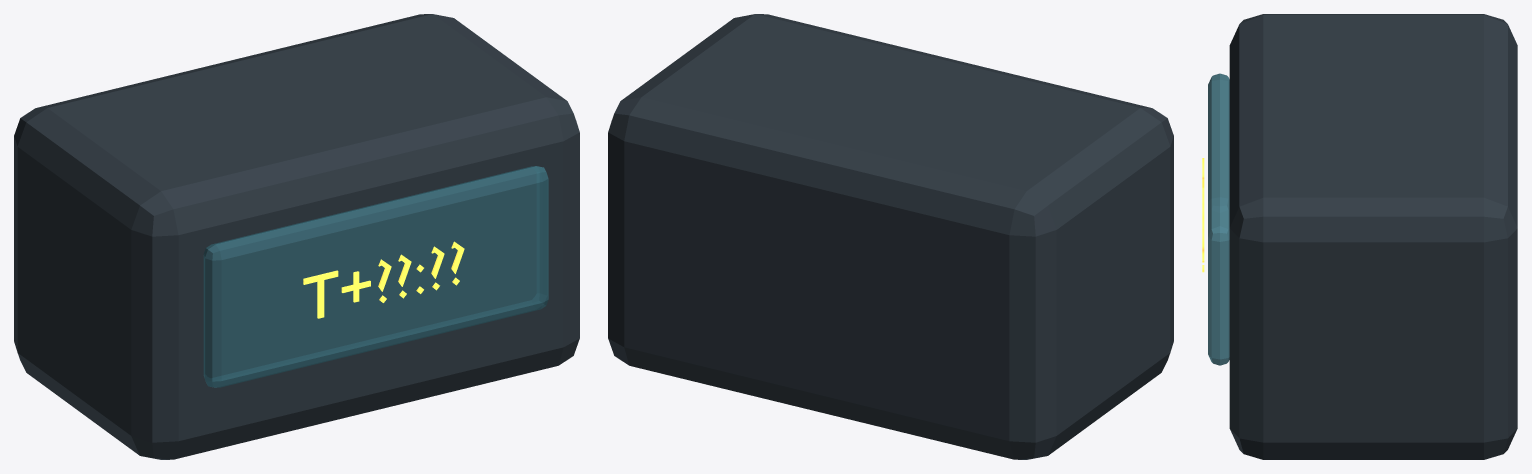
Rendered from Find_FutureTimestamp.glb.
3 views of the same model, side by side, from view 1: azimuth 30°, elevation 25°; view 2: azimuth 150°, elevation 25°; view 3: azimuth 270°, elevation 25° (orthographic). The views are drawn at different scales.
Parts seen in each view (by area): view 1: Find_FutureTimestamp, Find_FutureTimestamp_Display, Find_FutureTimestamp_Text; view 2: Find_FutureTimestamp; view 3: Find_FutureTimestamp, Find_FutureTimestamp_Display, Find_FutureTimestamp_Text.
Part boxes in pixels (box(x1,y1,x2,y2)): Find_FutureTimestamp: box(14, 14, 579, 459); Find_FutureTimestamp_Display: box(203, 166, 548, 387); Find_FutureTimestamp_Text: box(303, 241, 464, 318); Find_FutureTimestamp: box(608, 14, 1173, 459); Find_FutureTimestamp: box(1229, 14, 1517, 459); Find_FutureTimestamp_Display: box(1208, 73, 1229, 365); Find_FutureTimestamp_Text: box(1202, 158, 1204, 272).
Size of the model in its own units: 1.04 by 0.6 by 0.657.
